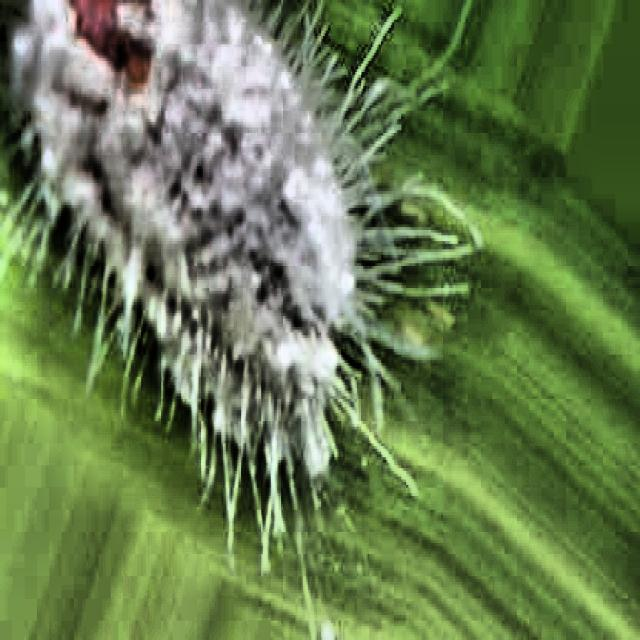Mealy-bug: (0, 0, 429, 507)
